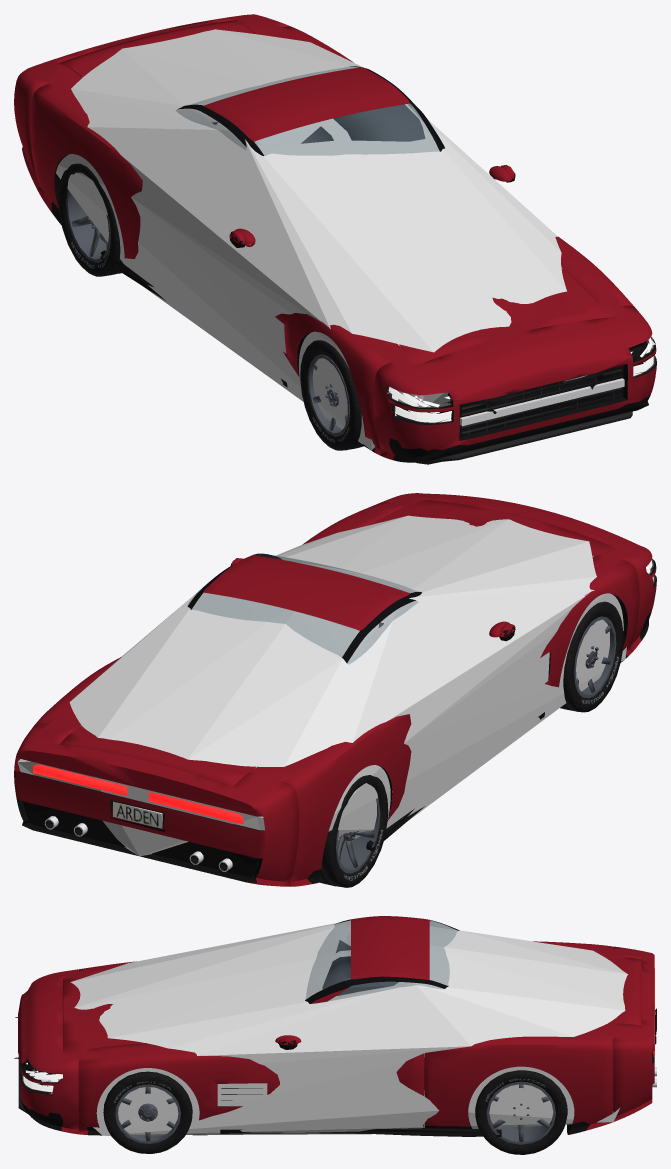
Rendered from arden_bruiser_lod1.glb.
3 views of the same model, one above another, from view 1: azimuth 30°, elevation 25°; view 2: azimuth 150°, elevation 25°; view 3: azimuth 270°, elevation 25° (orthographic). The views are drawn at different scales.
Visible parts, largest first — view 1: col_body, body, glass, trim, wheel_RR, wheel_FR, interior, lights_front; view 2: col_body, body, glass, wheel_RR, wheel_FR, lights_rear, plate_rear, trim, exhaust; view 3: col_body, body, wheel_RL, wheel_FL, glass, trim, interior, lights_front.
Boxes of the visible parts, bbox=[...] form: col_body: bbox=[56, 29, 655, 450]; body: bbox=[14, 14, 656, 462]; glass: bbox=[176, 67, 439, 155]; trim: bbox=[100, 165, 632, 464]; wheel_RR: bbox=[58, 163, 121, 276]; wheel_FR: bbox=[300, 340, 363, 450]; interior: bbox=[212, 104, 425, 143]; lights_front: bbox=[388, 336, 654, 422]; col_body: bbox=[17, 515, 626, 856]; body: bbox=[14, 493, 656, 886]; glass: bbox=[188, 554, 419, 664]; wheel_RR: bbox=[320, 775, 388, 887]; wheel_FR: bbox=[560, 601, 623, 712]; lights_rear: bbox=[33, 764, 243, 824]; plate_rear: bbox=[109, 799, 165, 831]; trim: bbox=[230, 558, 544, 851]; exhaust: bbox=[44, 816, 232, 871]; col_body: bbox=[41, 920, 627, 1135]; body: bbox=[14, 916, 654, 1136]; wheel_RL: bbox=[475, 1070, 567, 1154]; wheel_FL: bbox=[103, 1071, 192, 1153]; glass: bbox=[305, 920, 457, 1001]; trim: bbox=[18, 1037, 501, 1136]; interior: bbox=[322, 940, 398, 995]; lights_front: bbox=[22, 990, 62, 1094].
Size of the model in its own units: 1.92 by 1.36 by 4.91.
Materials: 15 (3 with a texture image).
